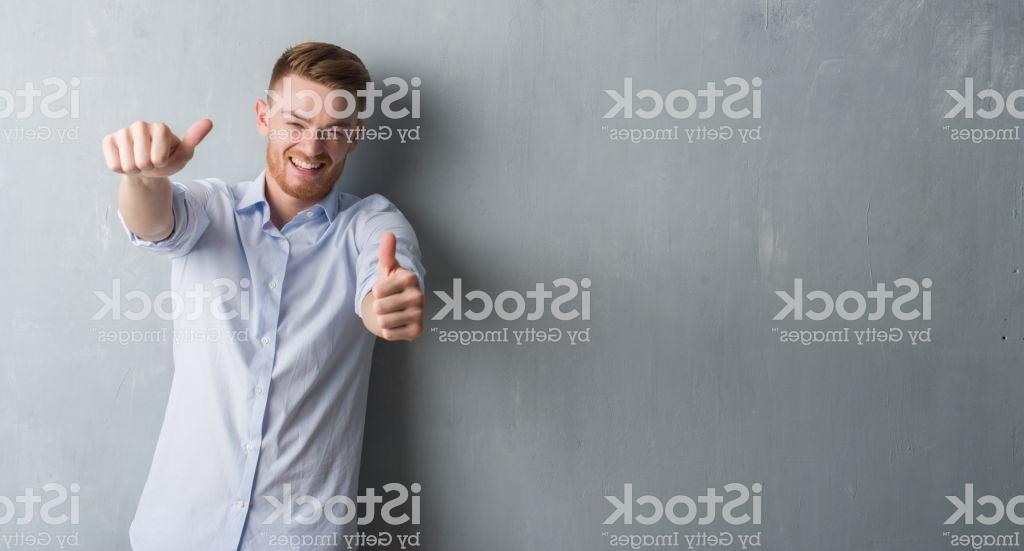thumbsup: (371, 230, 427, 344)
